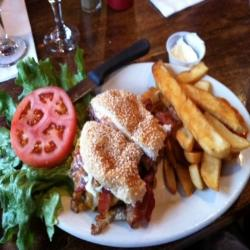burger: (67, 90, 168, 227)
fries: (147, 66, 245, 193)
salad: (2, 67, 78, 234)
